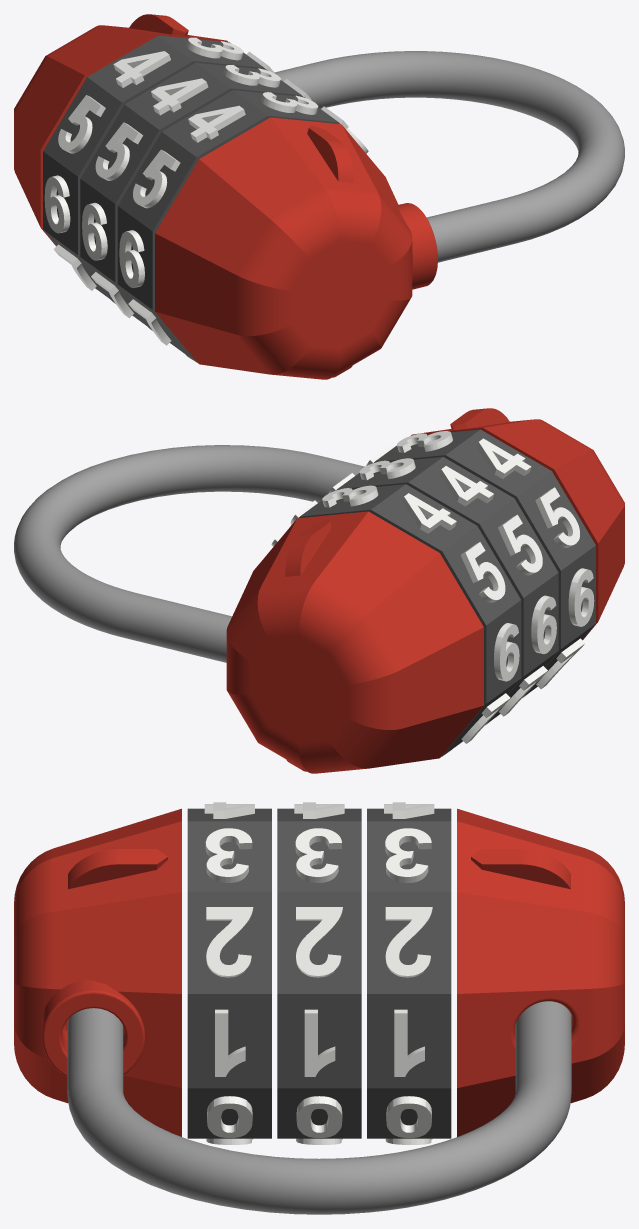
Rendered from numLock.fbx.
3 renders of one model, top to bottom at view 1: azimuth 30°, elevation 25°; view 2: azimuth 150°, elevation 25°; view 3: azimuth 270°, elevation 25°, orthographic. The views are drawn at different scales.
Visible parts, largest first — view 1: Body13, Body1 (×18), Body14, Body12; view 2: Body12, Body1 (×18), Body14, Body13; view 3: Body1 (×18), Body13, Body12, Body14.
Boxes of the visible parts, x1=… form: Body13: x1=155, y1=117, x2=437, y2=379; Body1 (×18): x1=43, y1=35, x2=340, y2=362; Body14: x1=274, y1=51, x2=624, y2=262; Body12: x1=14, y1=14, x2=228, y2=246; Body12: x1=226, y1=511, x2=483, y2=773; Body1 (×18): x1=298, y1=429, x2=595, y2=756; Body14: x1=14, y1=445, x2=364, y2=662; Body13: x1=411, y1=408, x2=624, y2=640; Body1 (×18): x1=187, y1=802, x2=451, y2=1138; Body13: x1=14, y1=808, x2=181, y2=1136; Body12: x1=457, y1=808, x2=624, y2=1136; Body14: x1=67, y1=1001, x2=571, y2=1214.
Bounding box in the file's own units: 2501 × 1221 × 2180.
